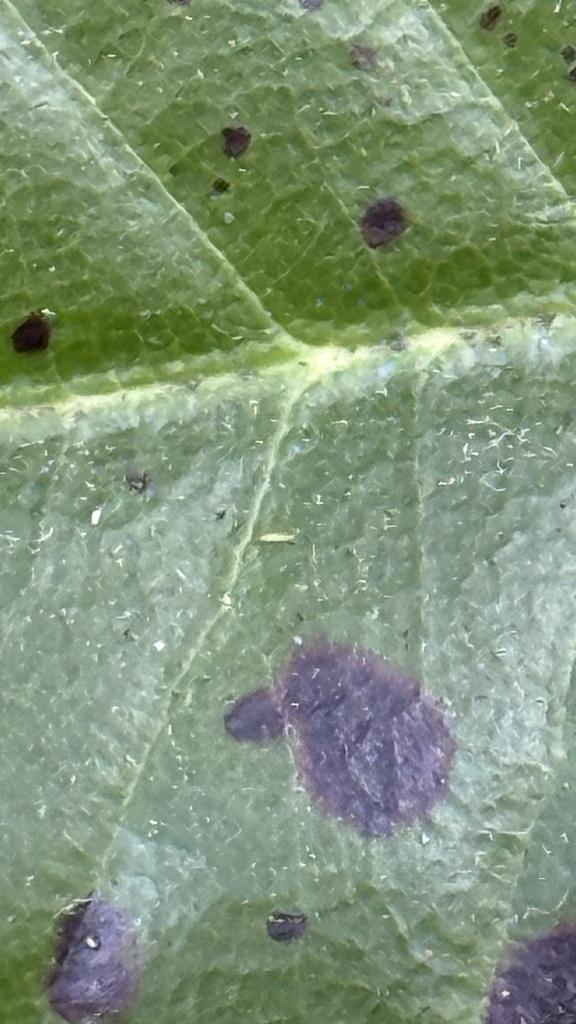tiny_pests: (252, 524, 308, 553)
